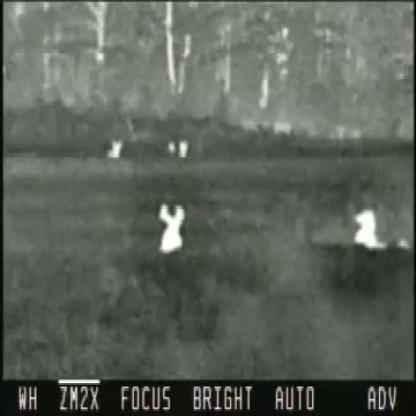rehkitze: (346, 203, 386, 253), (157, 200, 185, 254)
